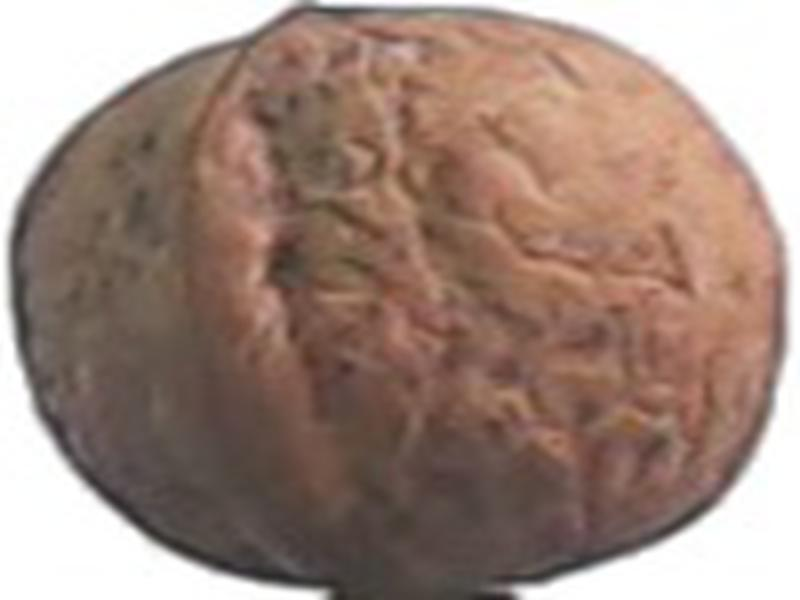walnut: (3, 1, 800, 594)
